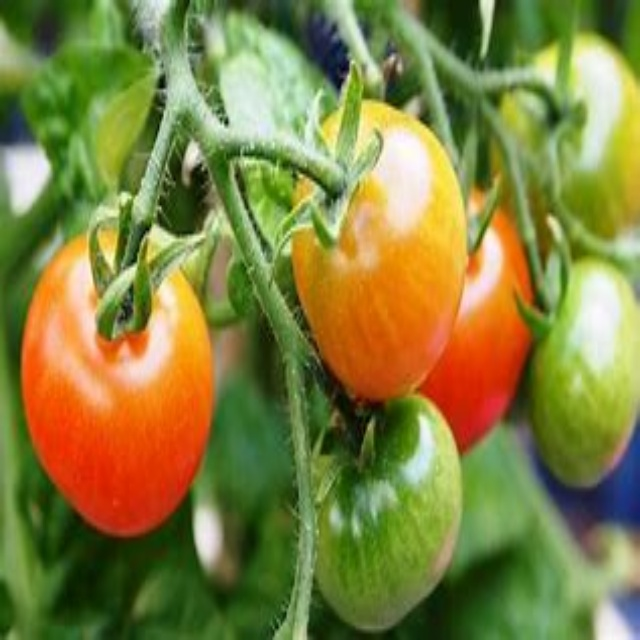tomato: (28, 232, 209, 534), (283, 103, 459, 394), (292, 402, 467, 627), (418, 193, 548, 457), (489, 34, 639, 241), (537, 267, 639, 511)
